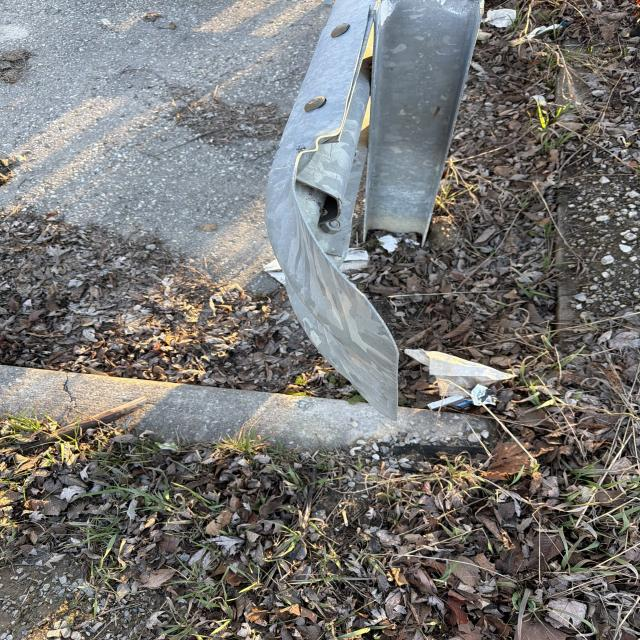Guard rail: (264, 4, 468, 382)
